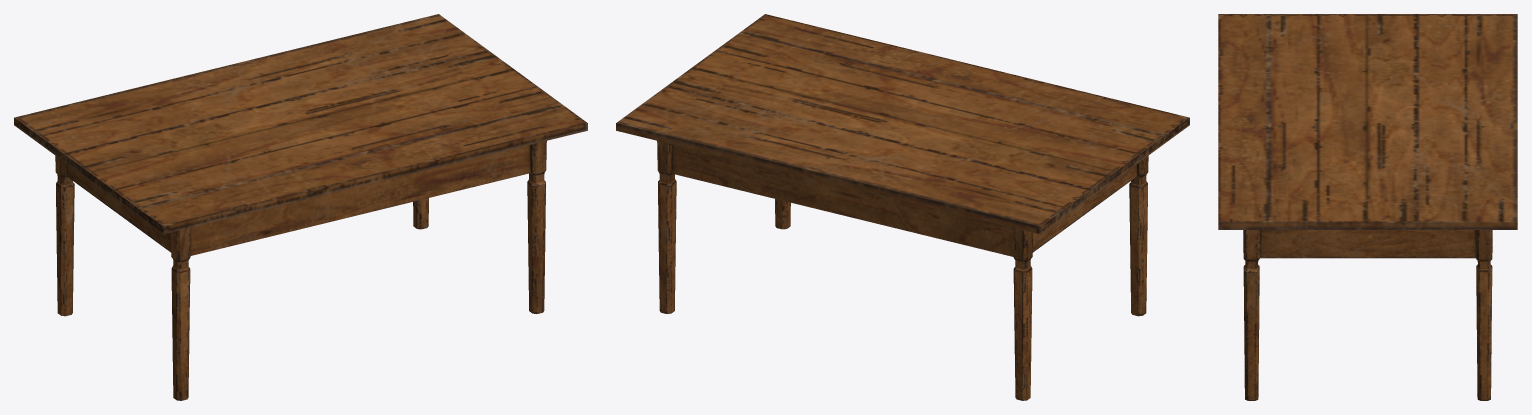
File: Mesa dispensa .fbx
3 views of the same model, side by side, from view 1: azimuth 30°, elevation 25°; view 2: azimuth 150°, elevation 25°; view 3: azimuth 270°, elevation 25° (orthographic).
Visible parts, largest first — view 1: Cube; view 2: Cube; view 3: Cube.
Part boxes in pixels (x1,y1,x2,y2): Cube: (14,14,587,400); Cube: (616,14,1189,400); Cube: (1218,14,1517,400).
Size of the model in its own units: 197 by 84.87 by 120.
